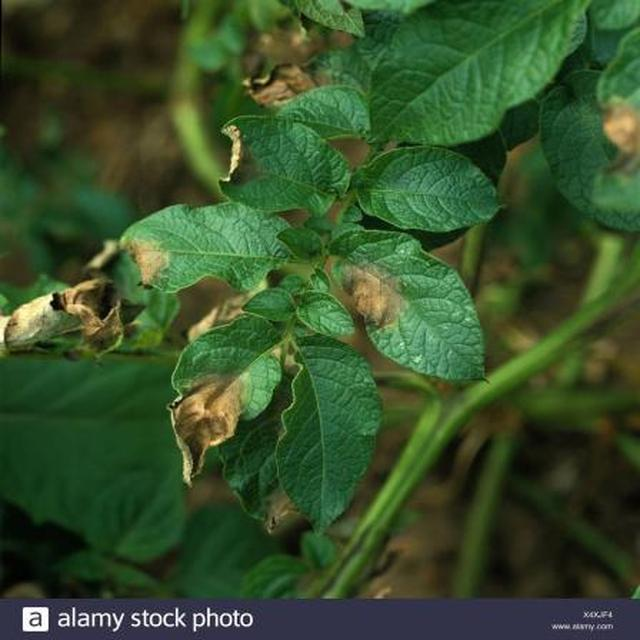Late Blight Leaf: (187, 146, 586, 571)
